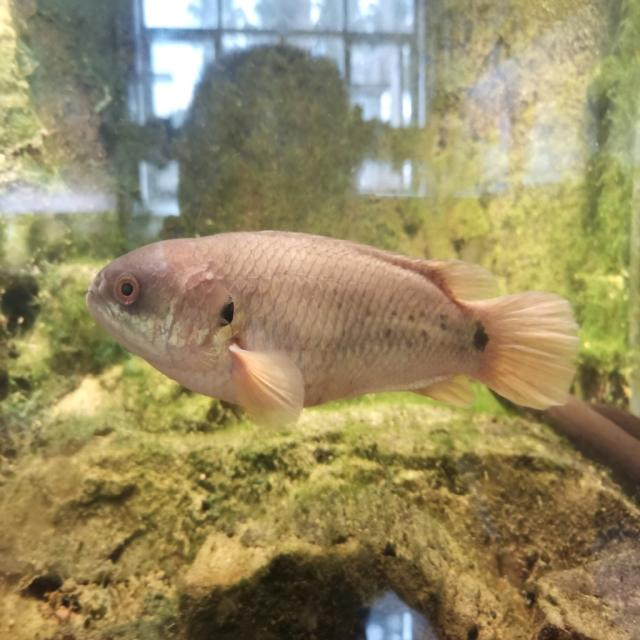Climbing-Perch: (54, 208, 606, 512)
